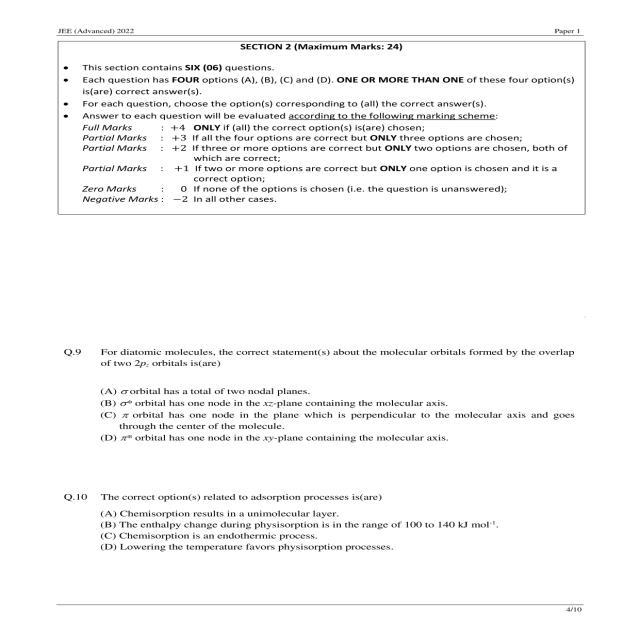Answer_Block: (38, 380, 608, 454), (38, 509, 608, 568)
Instruction: (38, 38, 608, 224)
Question_Answer_Block: (38, 330, 608, 455), (38, 481, 608, 568)
Question_Block: (38, 330, 608, 370), (38, 481, 608, 506)
Question_Paper_Area: (38, 38, 608, 590)
